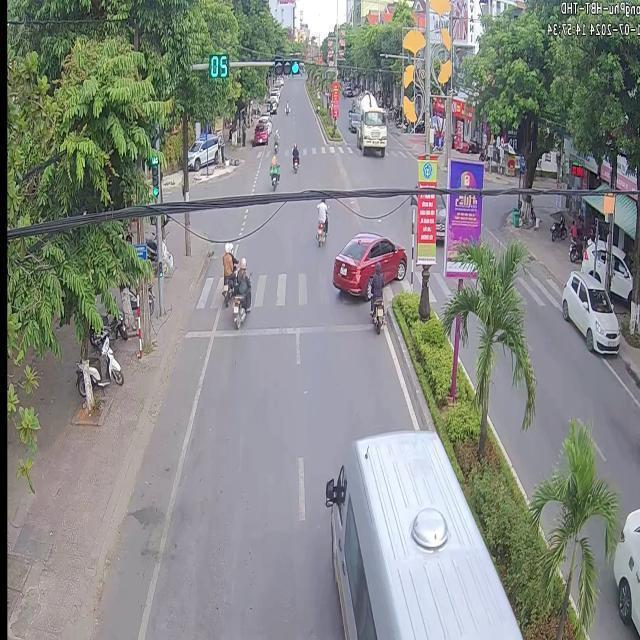car: (324, 429, 519, 637), (330, 231, 406, 298), (559, 269, 618, 351), (612, 507, 638, 630), (356, 91, 386, 156)
green_light: (207, 54, 230, 73), (273, 58, 300, 74), (151, 149, 159, 198)
motobike: (232, 256, 249, 327), (368, 260, 383, 331), (220, 240, 236, 296), (314, 196, 327, 245), (268, 151, 278, 189), (209, 296, 220, 308)
stop_line: (186, 322, 369, 336)
